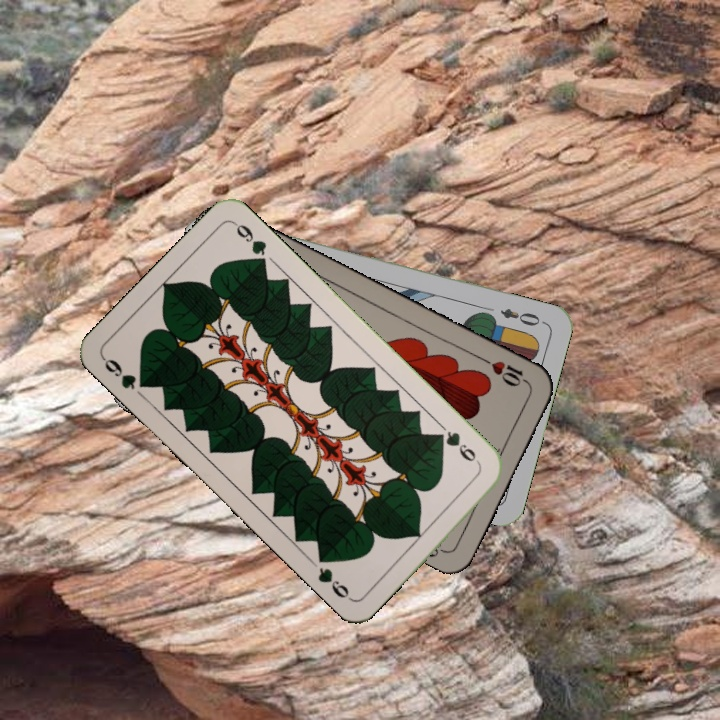EO: (496, 304, 548, 329)
G9: (98, 354, 153, 393), (432, 427, 483, 468)
H10: (477, 353, 532, 390)
